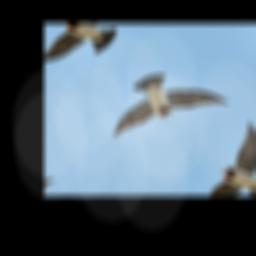Swallow: (90, 53, 231, 166)
